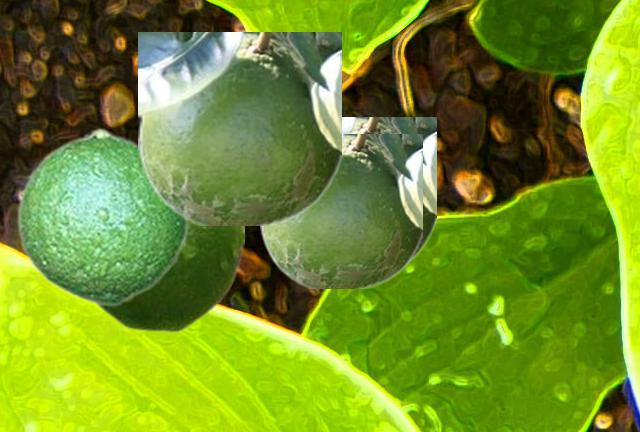dalandan: (138, 32, 340, 224), (15, 127, 188, 306), (260, 134, 421, 287), (95, 223, 243, 331), (341, 117, 435, 261)
